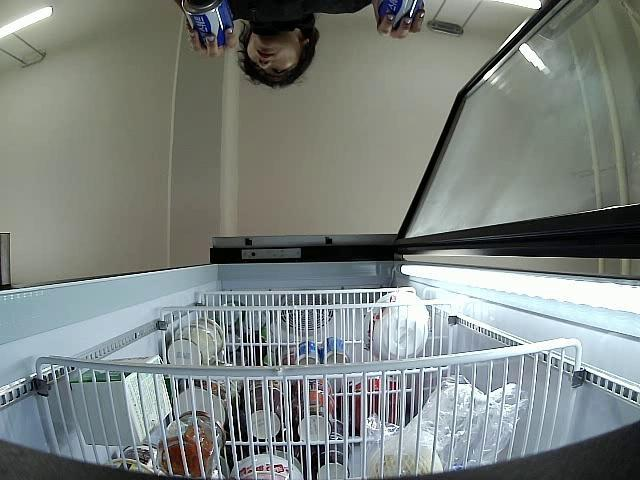13_pocariSweat: (181, 0, 232, 50), (376, 0, 419, 29)
